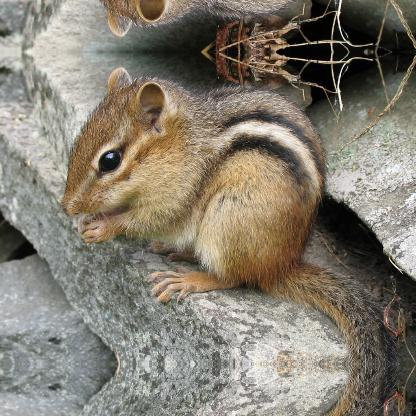Squirrel: (49, 66, 397, 362)
